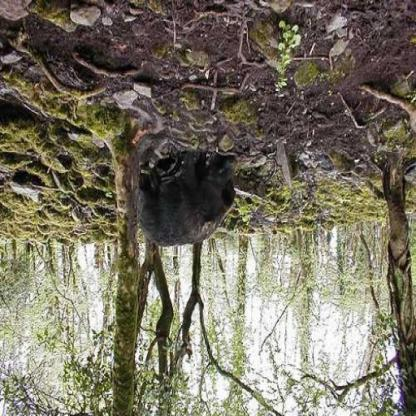boar: (100, 125, 242, 301)
